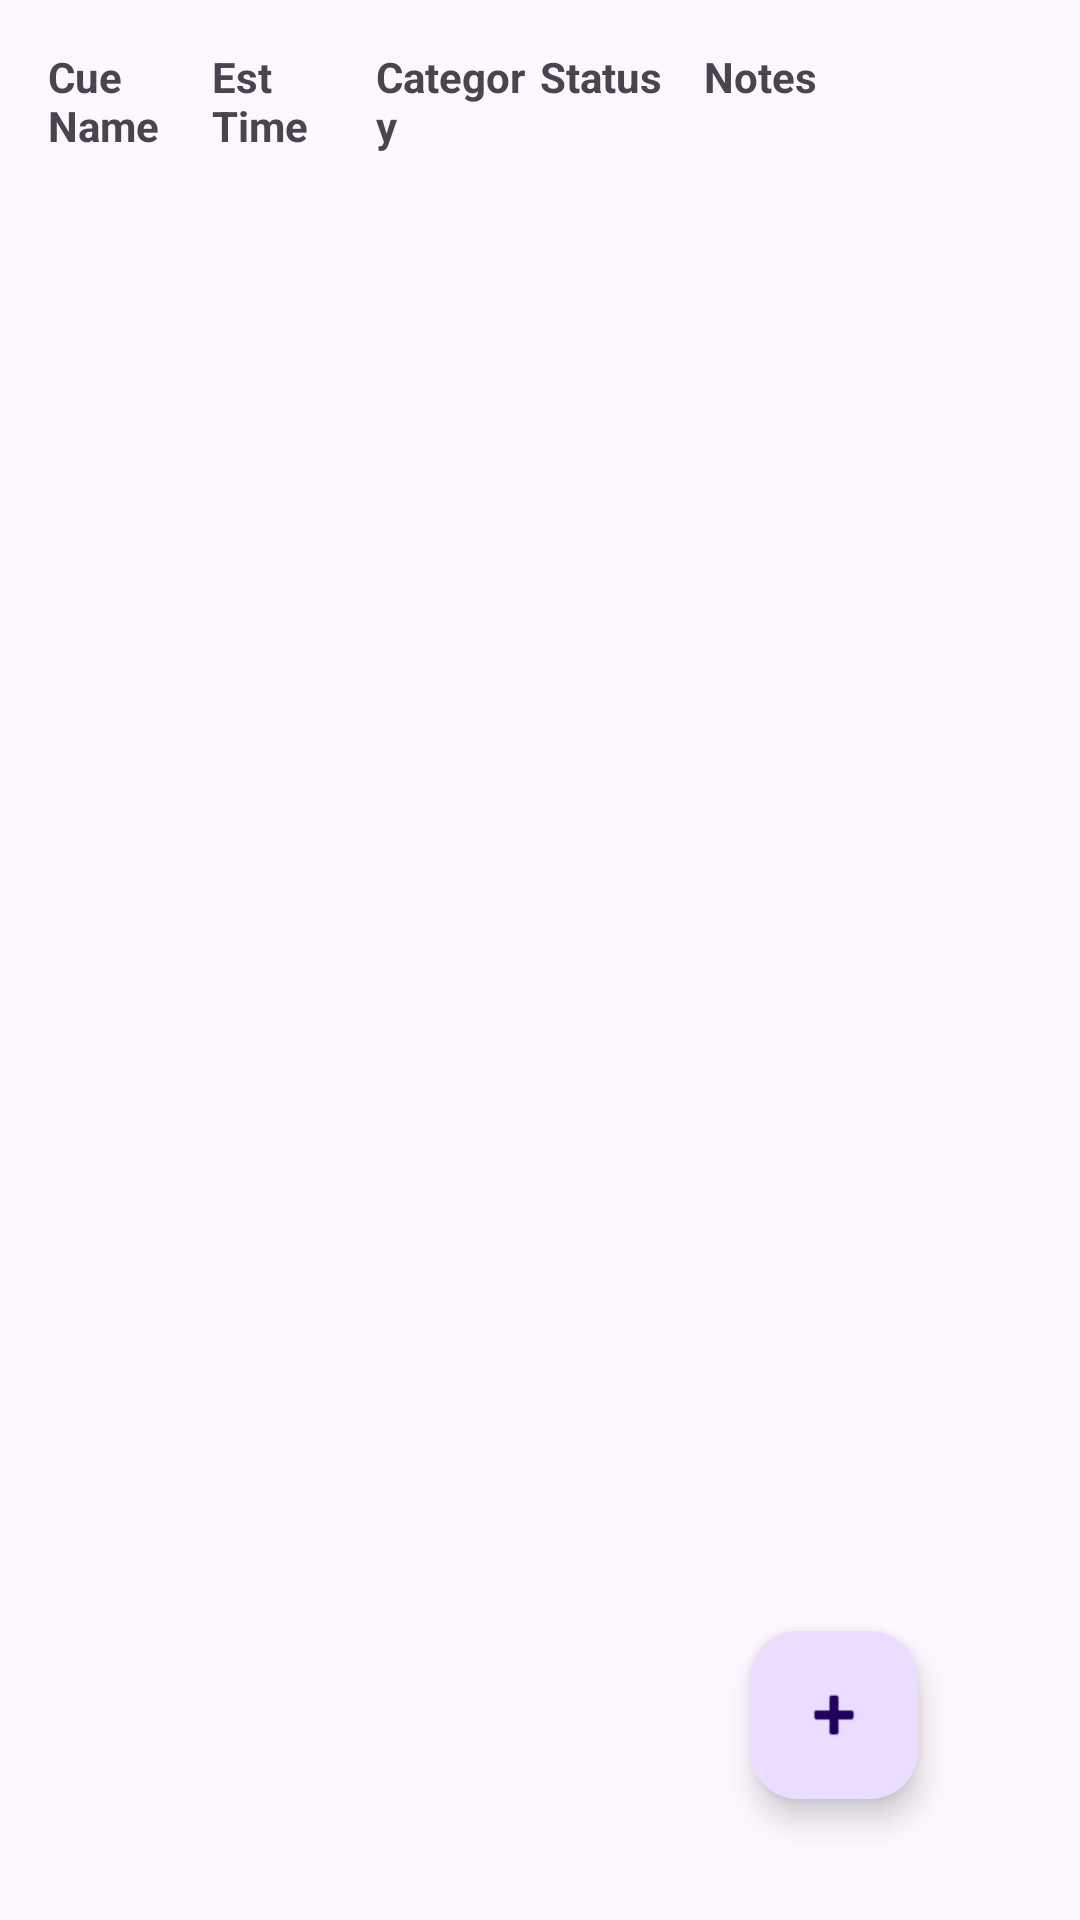

Screen size 1080 × 1920. Icon name, then its box in pixels as (x1, y1, x2, y2):
add: (750, 1631, 918, 1799)
